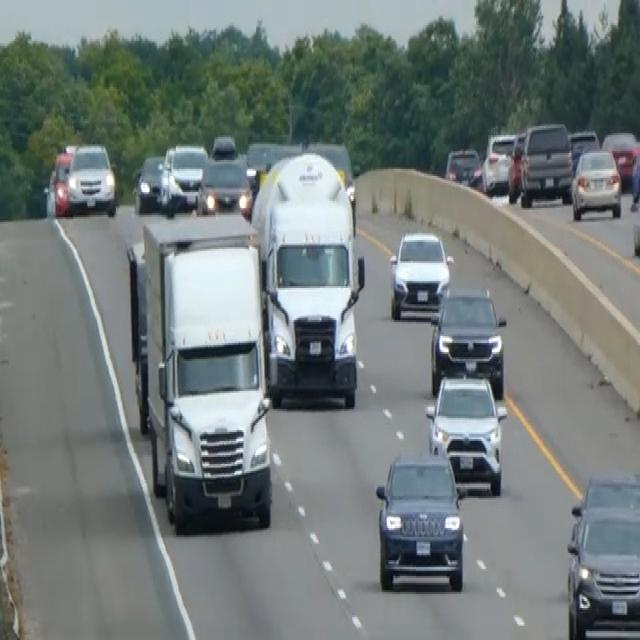car: (564, 470, 639, 638), (424, 370, 508, 496), (429, 284, 506, 396), (388, 228, 452, 320), (197, 133, 253, 217), (519, 119, 573, 206), (66, 140, 117, 217), (570, 146, 622, 220), (160, 140, 207, 213), (245, 137, 302, 197), (481, 130, 517, 194), (601, 128, 639, 185), (44, 147, 73, 217), (133, 153, 166, 211), (444, 144, 481, 187), (567, 126, 600, 171), (506, 132, 526, 202), (629, 146, 639, 258)
jeep: (374, 448, 465, 592)
lorry: (129, 209, 273, 532), (252, 149, 365, 409)
